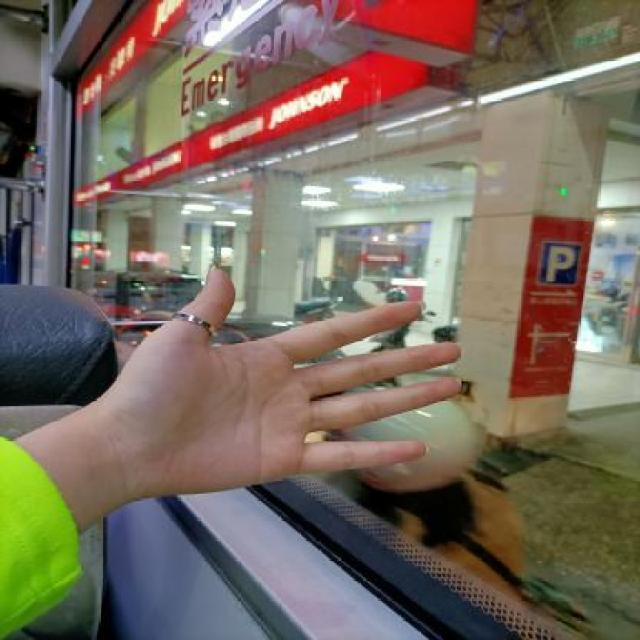bare_hand: (80, 246, 483, 528)
